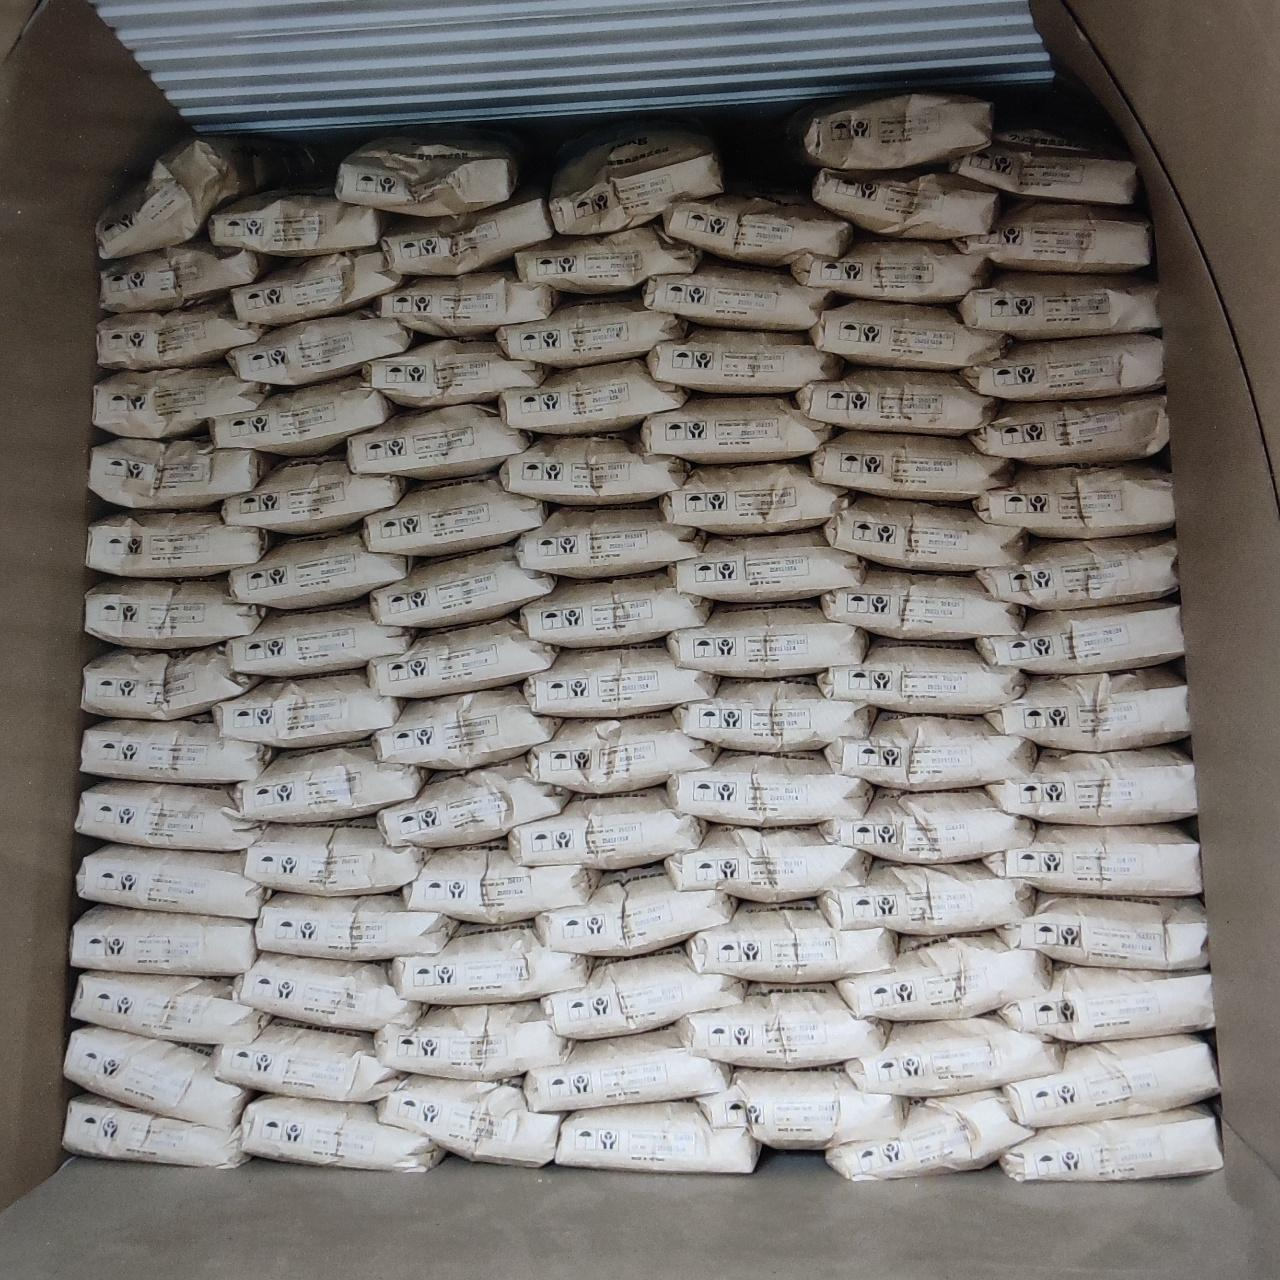sack: (98, 136, 318, 256), (838, 932, 1052, 1020), (1004, 1036, 1216, 1124), (66, 1026, 250, 1126), (550, 126, 724, 230), (544, 948, 742, 1038), (828, 1092, 1032, 1178), (378, 756, 570, 846), (842, 1016, 1062, 1094), (678, 986, 886, 1068), (536, 868, 734, 954), (526, 1028, 730, 1110), (1000, 1104, 1220, 1180), (1000, 962, 1214, 1040), (698, 1068, 906, 1148), (986, 668, 1188, 750), (768, 94, 990, 168), (826, 712, 1034, 790), (688, 902, 894, 980), (988, 746, 1196, 822), (820, 860, 1032, 934), (378, 1078, 560, 1164), (390, 924, 590, 1002), (510, 788, 704, 868), (818, 638, 1024, 712), (820, 790, 1030, 862), (238, 1096, 442, 1170), (214, 1020, 402, 1100), (530, 712, 718, 792), (984, 824, 1198, 894), (234, 742, 426, 820), (406, 846, 598, 924), (998, 894, 1206, 966), (666, 826, 868, 900), (376, 1002, 570, 1078), (374, 686, 558, 766), (826, 496, 1024, 570), (372, 546, 554, 626), (668, 752, 870, 824), (556, 1100, 758, 1172), (370, 616, 556, 694), (668, 604, 868, 676), (822, 566, 1022, 638), (212, 376, 396, 454), (338, 136, 522, 214), (952, 126, 1136, 204), (214, 670, 402, 746), (234, 954, 422, 1030), (974, 462, 1172, 534), (976, 534, 1174, 606), (676, 678, 874, 750), (364, 476, 546, 554), (78, 844, 268, 918), (520, 572, 710, 646), (662, 188, 852, 262), (976, 602, 1182, 670), (72, 972, 266, 1044), (226, 600, 414, 674), (224, 456, 406, 532), (524, 644, 716, 716), (500, 358, 686, 432), (970, 392, 1166, 462), (496, 294, 686, 366), (812, 432, 1012, 500), (790, 234, 990, 302), (232, 530, 410, 606), (382, 194, 550, 274), (228, 310, 414, 382), (954, 202, 1150, 270), (246, 820, 426, 894), (662, 462, 846, 534), (798, 368, 998, 434), (348, 406, 530, 478), (64, 1094, 246, 1166), (810, 300, 1008, 366), (670, 530, 862, 598), (500, 432, 686, 502), (516, 504, 702, 574), (812, 168, 998, 238), (90, 438, 276, 508), (644, 258, 830, 328), (960, 334, 1162, 398), (640, 394, 830, 462), (78, 780, 262, 850), (94, 364, 268, 438), (648, 326, 842, 392), (232, 248, 400, 324), (376, 266, 558, 336), (960, 272, 1158, 336), (258, 894, 454, 958), (82, 716, 272, 782), (70, 906, 254, 974), (516, 224, 700, 292), (100, 240, 274, 310), (364, 340, 548, 406), (86, 578, 264, 646), (88, 510, 274, 574), (84, 648, 254, 718), (98, 298, 264, 368), (208, 191, 384, 257)
